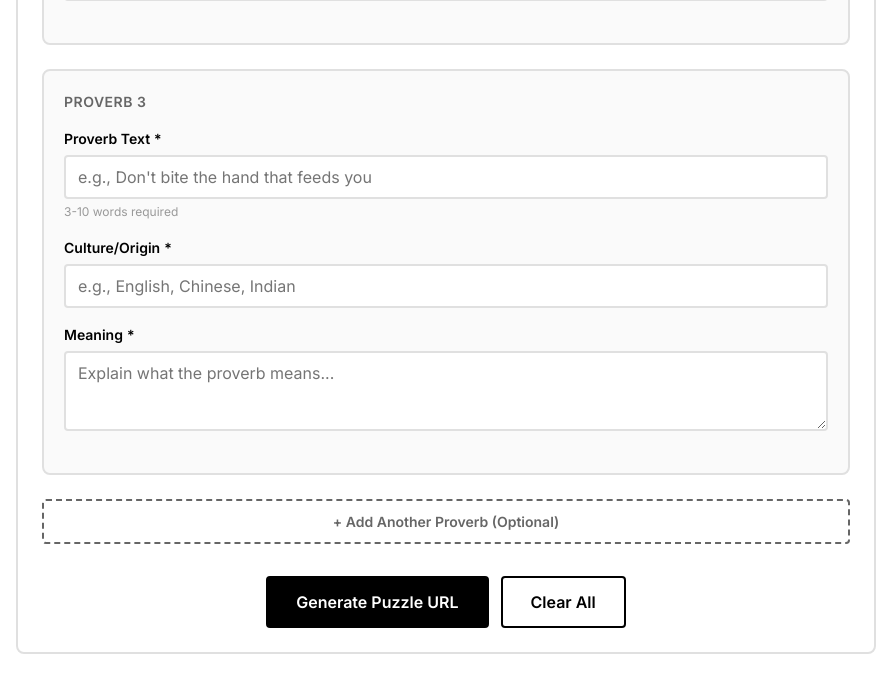
Test case: PuzzleBuilder › allows adding a fourth proverb
The width and height of the screenshot is (893, 689).
(page scrolled)
Click the button "+ Add Another Proverb (Optional)" at (446, 521), box [42,499,850,544]
(page scrolled)
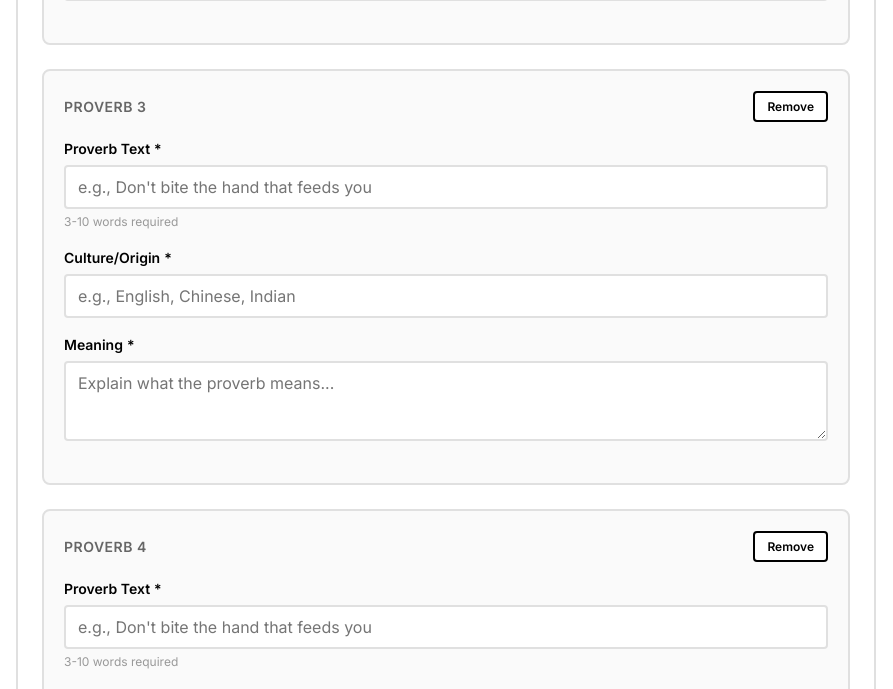
Now the text "Proverb 4" is shown, box [64,536,147,557]
Now the button "+ Add Another Proverb (Optional)" is gone
